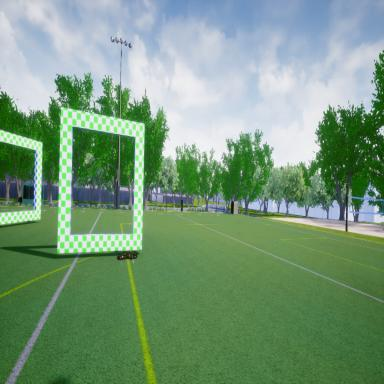gate: (53, 100, 148, 262)
